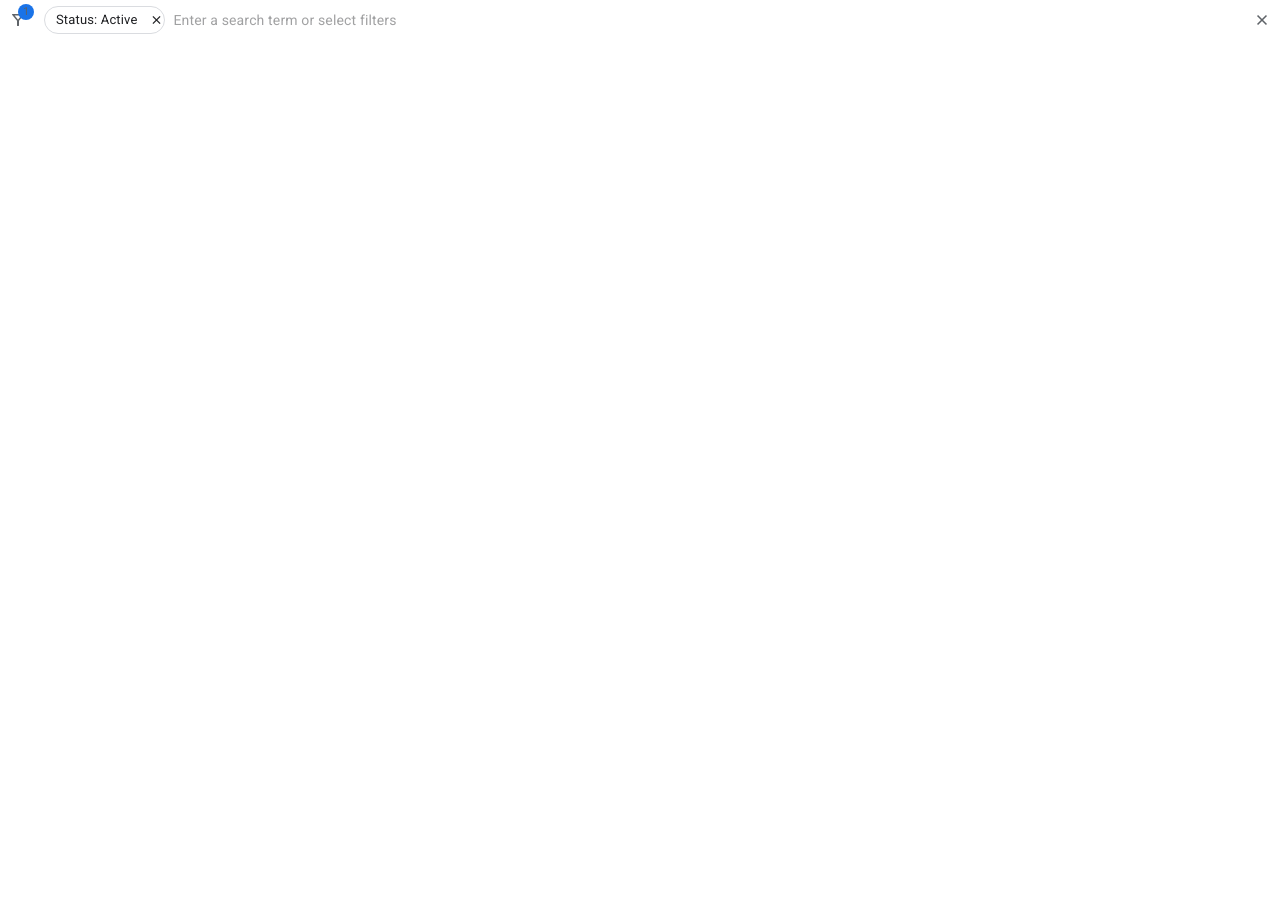
Scenario: DvFilterBar › Apply with nothing checked removes the filter
What coordinates should you click on to do the following:
click the button "Status: Active"
I would click on:
 (105, 20)
Its box is 44,6 -> 166,34.
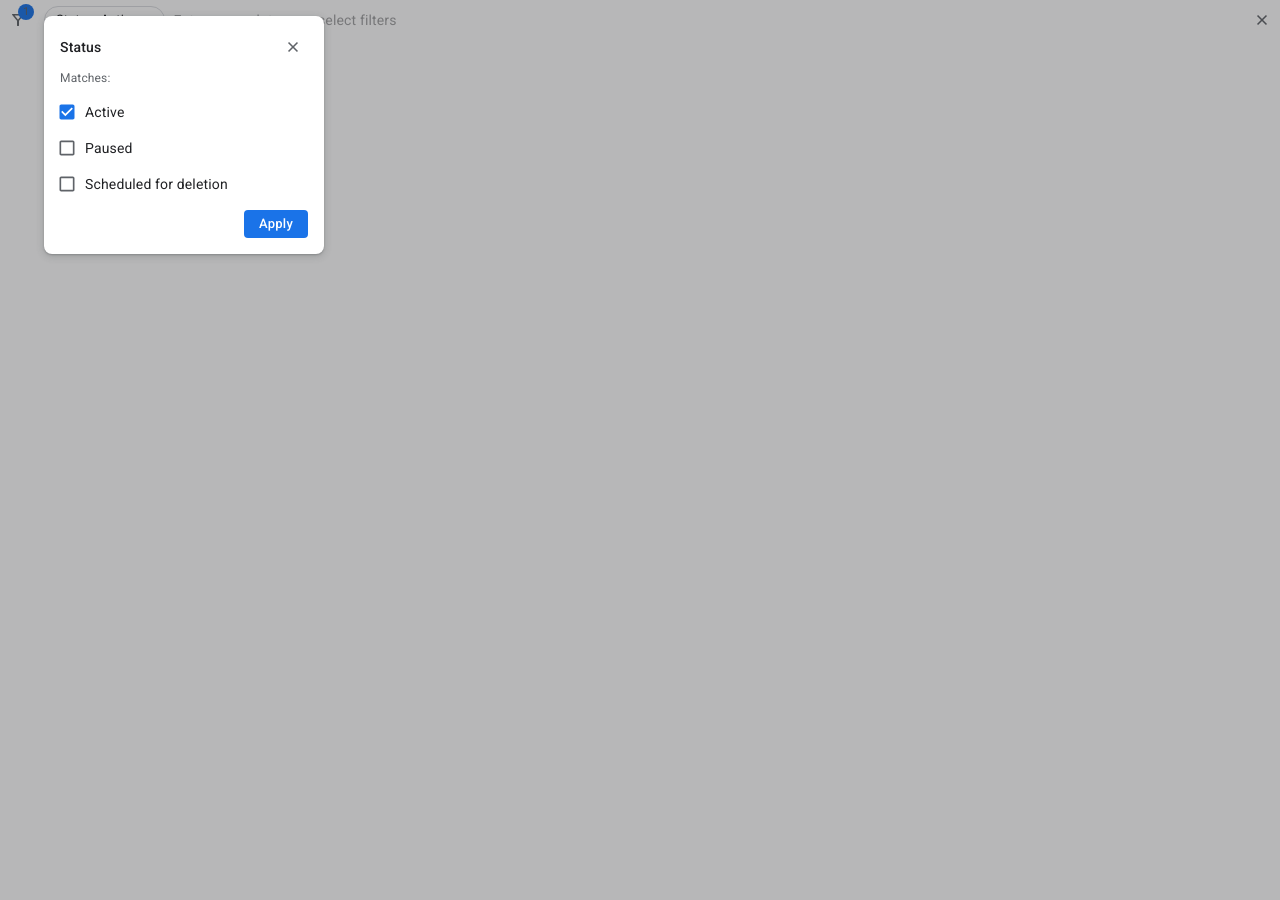
What coordinates should you click on to do the following:
click the checkbox labelled "Active"
I would click on:
 (91, 112)
Its box is 57,102 -> 124,122.
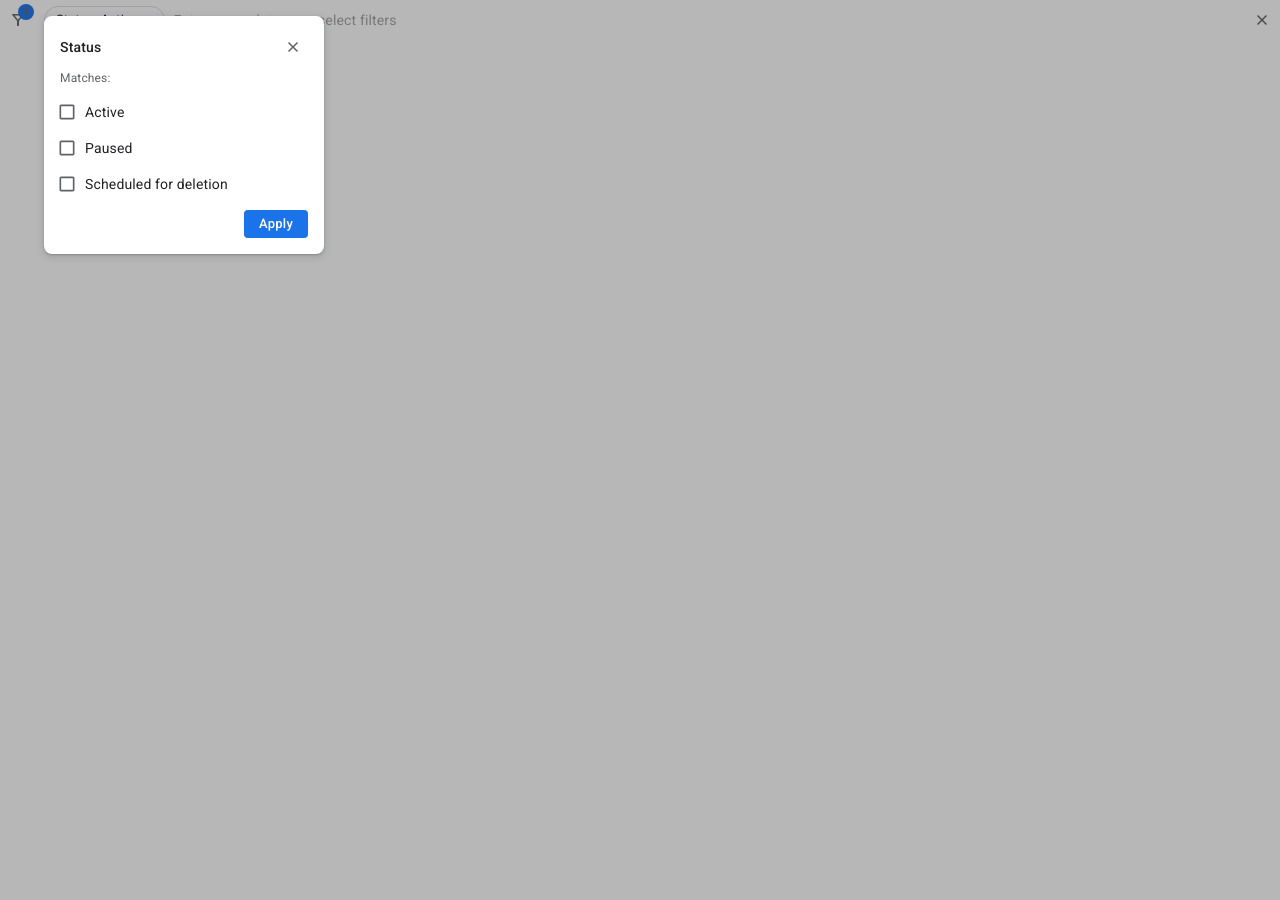
What coordinates should you click on to do the following:
click the button "Apply"
I would click on:
 (276, 224)
Its box is 244,210 -> 308,238.
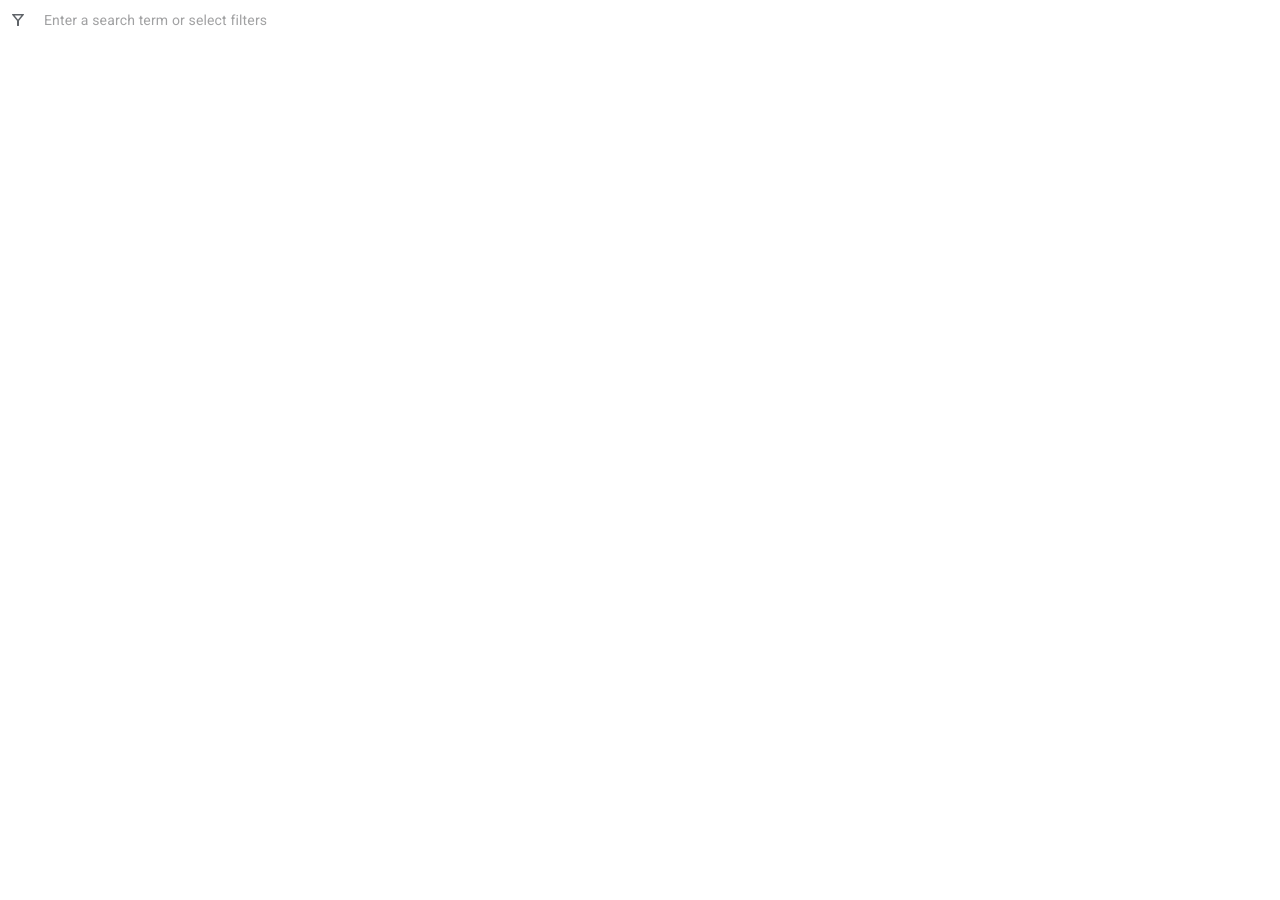
Now the button "Status:" is gone
